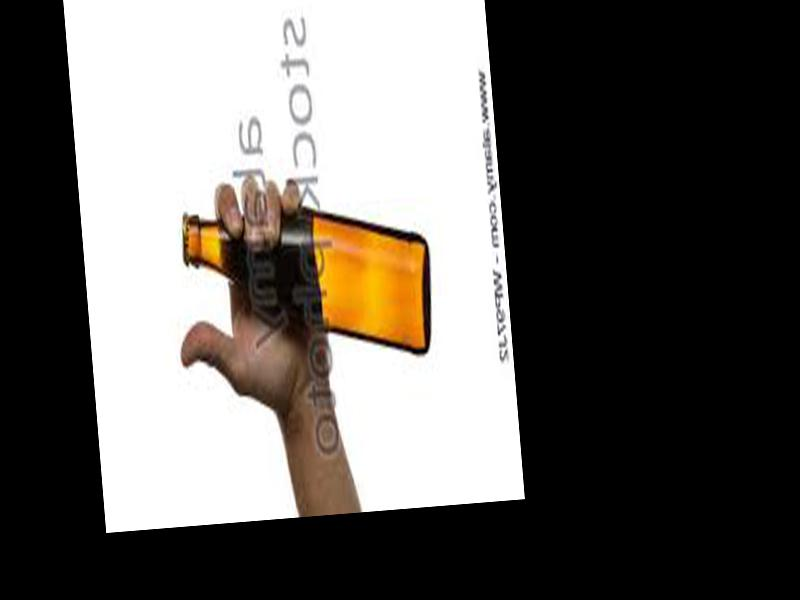Beer: (182, 190, 435, 375)
